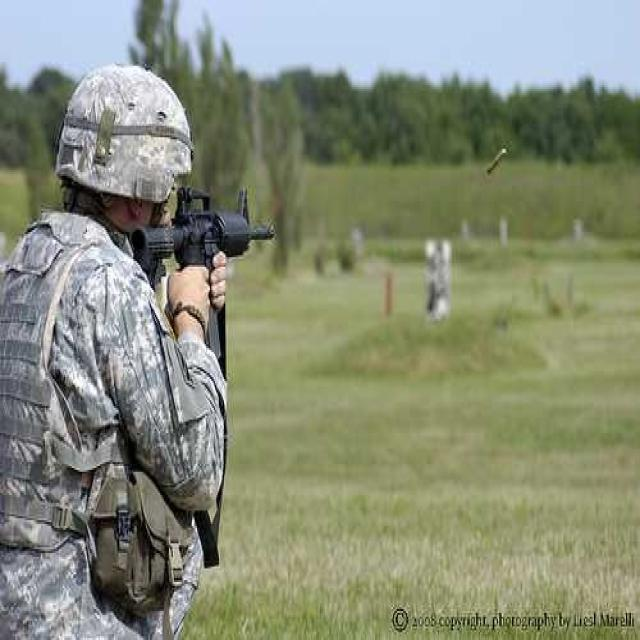heavyweapon: (137, 142, 295, 357)
